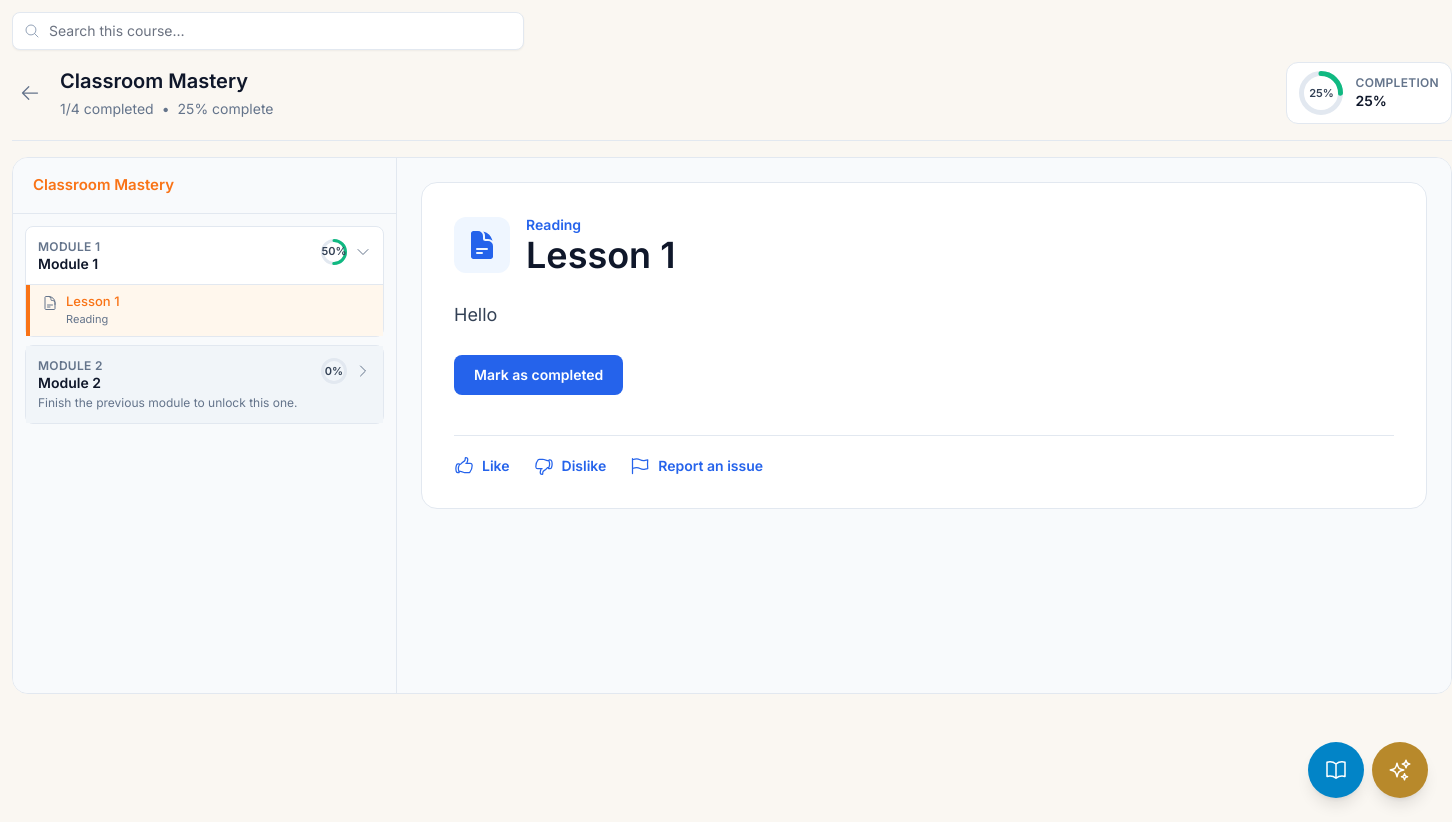
Scenario: CourseViewPage locking behavior › renders locked modules and disables locked lesson buttons
This screenshot has width=1452, height=822.
Expected: the heading "Classroom Mastery" in the row of "Completion" is shown, [60,69,248,93]
Expected: the text "Finish the previous module to unlock this one." is shown, [38,395,298,411]
Click the button "Module 2" at [66, 365], box [26,346,383,423]
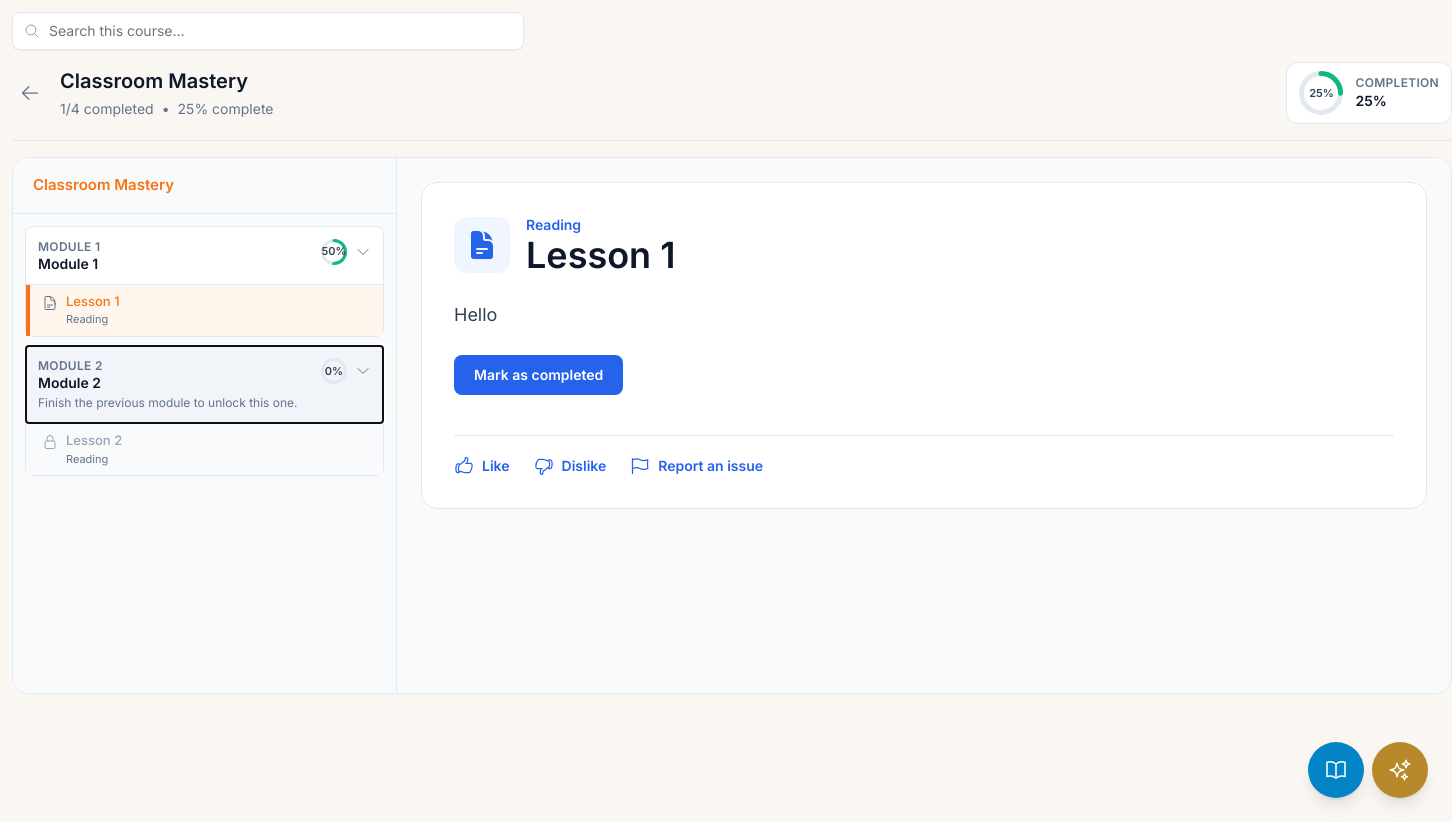
Expected: the button "Lesson 2 Reading" is disabled, [26,424,383,475]
